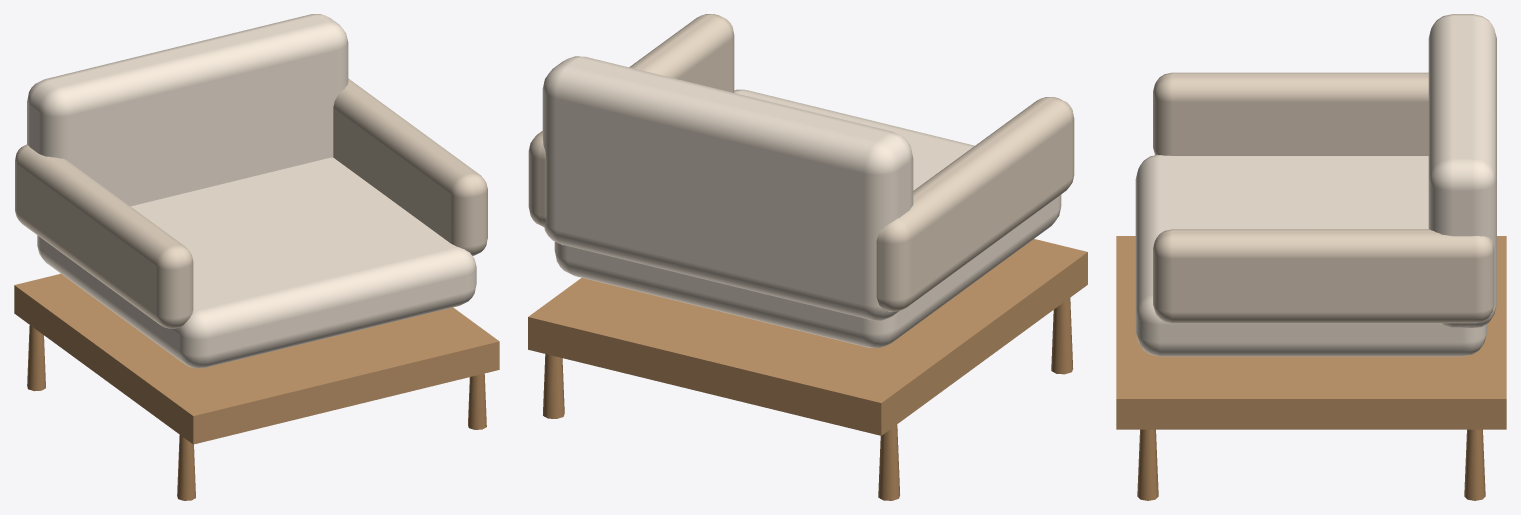
File: armchair-lite.glb
The picture shows the model from 3 angles, left to right: view 1: azimuth 30°, elevation 25°; view 2: azimuth 150°, elevation 25°; view 3: azimuth 270°, elevation 25°; orthographic projection. The views are drawn at different scales.
Parts seen in each view (by area): view 1: material-2-upholstery, material-1-frame, material-3-accent, material-0-leg; view 2: material-2-upholstery, material-1-frame, material-3-accent, material-0-leg; view 3: material-3-accent, material-2-upholstery, material-1-frame, material-0-leg.
Part boxes in pixels (x1=…): material-2-upholstery: x1=27, y1=14, x2=476, y2=368; material-1-frame: x1=14, y1=273, x2=499, y2=444; material-3-accent: x1=15, y1=78, x2=487, y2=328; material-0-leg: x1=27, y1=325, x2=486, y2=500; material-2-upholstery: x1=542, y1=56, x2=1061, y2=347; material-1-frame: x1=528, y1=239, x2=1087, y2=435; material-3-accent: x1=528, y1=14, x2=1074, y2=311; material-0-leg: x1=543, y1=298, x2=1073, y2=500; material-3-accent: x1=1153, y1=72, x2=1494, y2=323; material-2-upholstery: x1=1135, y1=14, x2=1496, y2=356; material-1-frame: x1=1116, y1=236, x2=1506, y2=429; material-0-leg: x1=1137, y1=429, x2=1485, y2=500.
Size of the model in its own units: 0.85 by 0.75 by 0.8.
